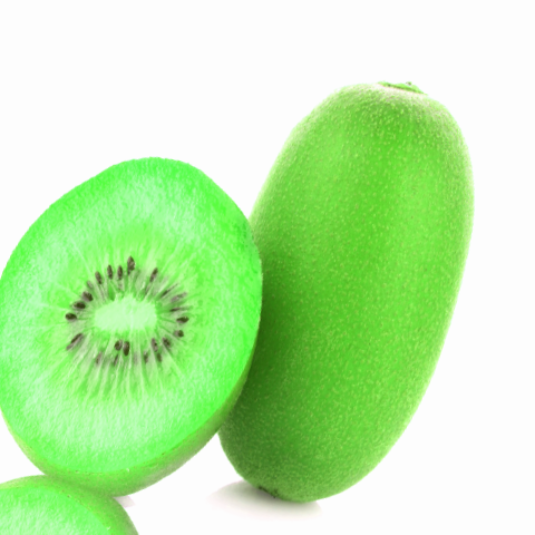kiwi: (116, 19, 535, 535)
